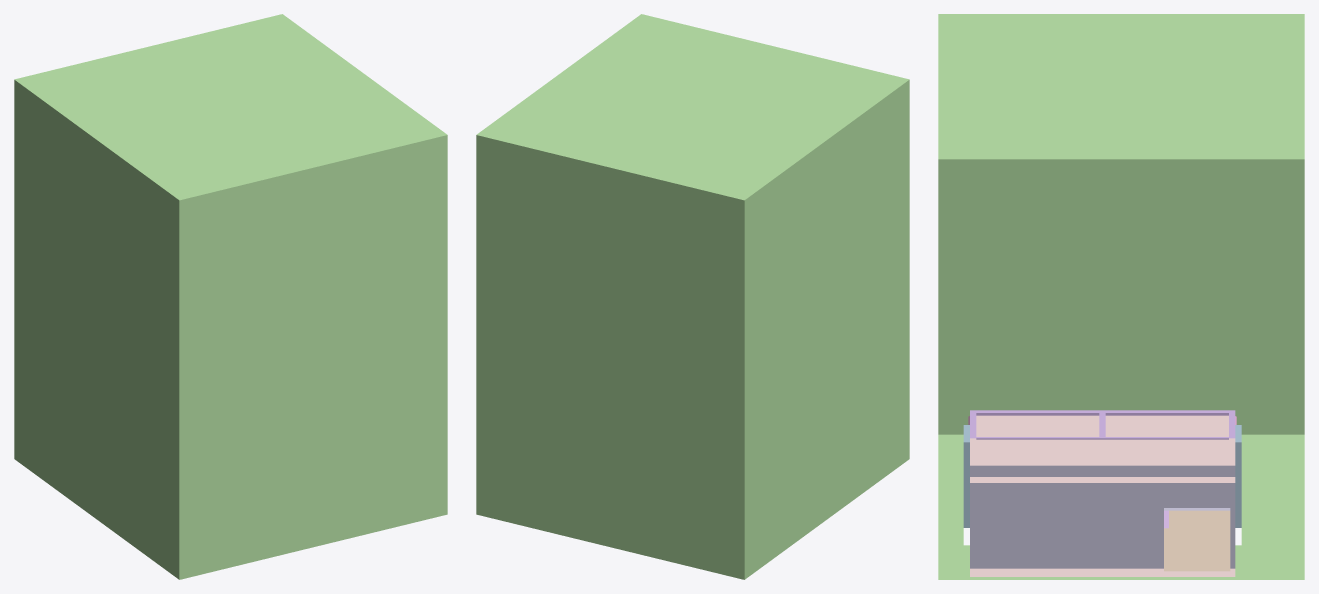
Rendered from mainmenu.fbx.
3 renders of one model, left to right at view 1: azimuth 30°, elevation 25°; view 2: azimuth 150°, elevation 25°; view 3: azimuth 270°, elevation 25°, orthographic. The views are drawn at different scales.
Parts seen in each view (by area): view 1: world_geometry; view 2: world_geometry; view 3: world_geometry.
Part boxes in pixels (box(x1,y1,x2,y2)): world_geometry: box(14, 14, 447, 579); world_geometry: box(476, 14, 909, 579); world_geometry: box(938, 14, 1304, 579).
Size of the model in its own units: 829 by 1120 by 884.
